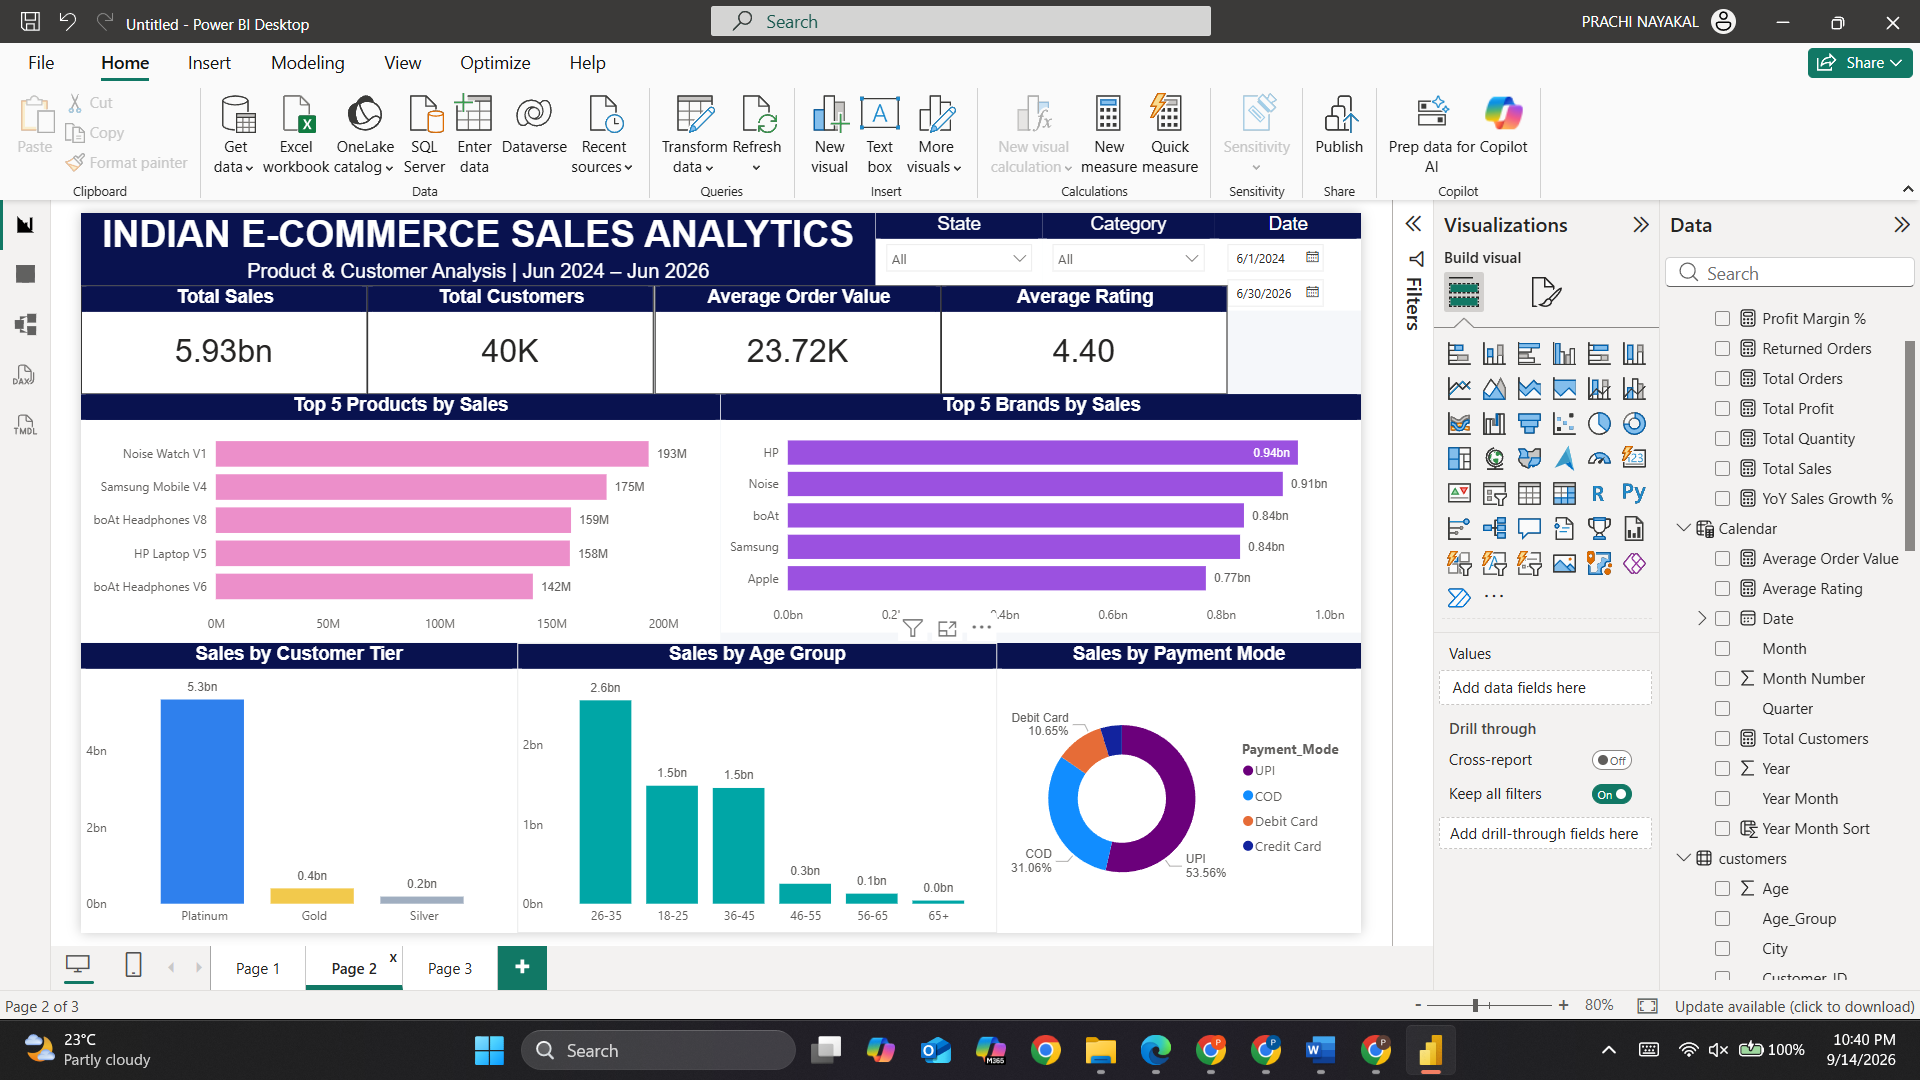

The page's visual inventory and layout, read from the dashboard file:
{"tool":"powerbi","page":{"name":"Page 2","canvas":[1280,720],"ordinal":1},"visuals":[{"type":"slicer","title":"State","fields":{"Values":["customers.State"]},"box":[794.8,0,166.3,72.1],"z":0},{"type":"textbox","title":"INDIAN E-COMMERCE SALES ANALYTICS ","box":[0,0,794.5,72.7],"z":1000},{"type":"slicer","title":"Category","fields":{"Values":["products.Category"]},"box":[961.1,0,172.4,72.1],"z":2000},{"type":"slicer","title":"Date","fields":{"Values":["Calendar.Date"]},"box":[1133.3,0,146.7,97.8],"z":3000},{"type":"cardVisual","title":"Total Sales","fields":{"Data":["Measures (2).Total Sales"]},"box":[0,72.7,286.8,108.4],"z":4000},{"type":"cardVisual","title":"Total Customers","fields":{"Data":["Calendar.Total Customers"]},"box":[286.8,72.7,286.8,108.4],"z":5000},{"type":"cardVisual","title":"Average Order Value","fields":{"Data":["Calendar.Average Order Value"]},"box":[573.6,72.7,286.8,108.4],"z":6000},{"type":"cardVisual","title":"Average Rating","fields":{"Data":["Calendar.Average Rating"]},"box":[860.4,72.7,286.8,108.4],"z":7000},{"type":"clusteredBarChart","title":"Top 5 Products by Sales","fields":{"Category":["products.Product_Name"],"Y":["Measures (2).Total Sales"]},"box":[0,181.1,639.5,248.4],"z":8000},{"type":"clusteredBarChart","title":"Top 5 Brands by Sales","fields":{"Category":["products.Brand"],"Y":["Measures (2).Total Sales"]},"box":[639.5,181.1,640.8,238.8],"z":9000},{"type":"clusteredColumnChart","title":"Sales by Customer Tier","fields":{"Category":["customers.Customer_Tier"],"Y":["Measures (2).Total Sales"]},"box":[0,429.5,436.4,290.9],"z":10000},{"type":"clusteredColumnChart","title":"Sales by Age Group","fields":{"Category":["customers.Age_Group"],"Y":["Measures (2).Total Sales"]},"box":[436.4,429.5,480.3,290.9],"z":11000},{"type":"donutChart","title":"Sales by Payment Mode","fields":{"Category":["sales.Payment_Mode"],"Y":["Measures (2).Total Sales"]},"box":[916.6,429.5,363.6,290.9],"z":12000}]}

Visuals, with their boxes on the page's 1280x720 design canvas (x1, y1, x2, y2). These are canvas units, not pixel positions in the 1920x1080 screenshot, which may show the page scaled, cropped or inside an application window:
"State" slicer: {"x1": 795, "y1": 0, "x2": 961, "y2": 72}
"INDIAN E-COMMERCE SALES ANALYTICS " textbox: {"x1": 0, "y1": 0, "x2": 794, "y2": 73}
"Category" slicer: {"x1": 961, "y1": 0, "x2": 1134, "y2": 72}
"Date" slicer: {"x1": 1133, "y1": 0, "x2": 1280, "y2": 98}
"Total Sales" cardVisual: {"x1": 0, "y1": 73, "x2": 287, "y2": 181}
"Total Customers" cardVisual: {"x1": 287, "y1": 73, "x2": 574, "y2": 181}
"Average Order Value" cardVisual: {"x1": 574, "y1": 73, "x2": 860, "y2": 181}
"Average Rating" cardVisual: {"x1": 860, "y1": 73, "x2": 1147, "y2": 181}
"Top 5 Products by Sales" clusteredBarChart: {"x1": 0, "y1": 181, "x2": 640, "y2": 430}
"Top 5 Brands by Sales" clusteredBarChart: {"x1": 640, "y1": 181, "x2": 1280, "y2": 420}
"Sales by Customer Tier" clusteredColumnChart: {"x1": 0, "y1": 430, "x2": 436, "y2": 720}
"Sales by Age Group" clusteredColumnChart: {"x1": 436, "y1": 430, "x2": 917, "y2": 720}
"Sales by Payment Mode" donutChart: {"x1": 917, "y1": 430, "x2": 1280, "y2": 720}
